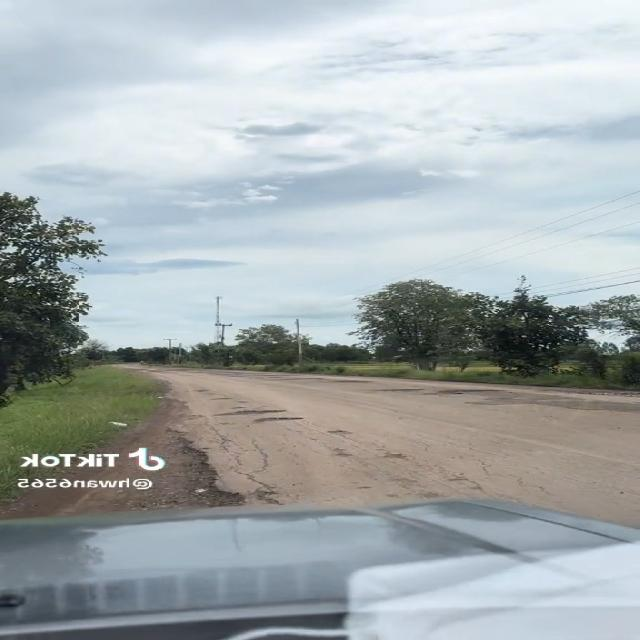Poth-hole: (204, 434, 398, 488)
